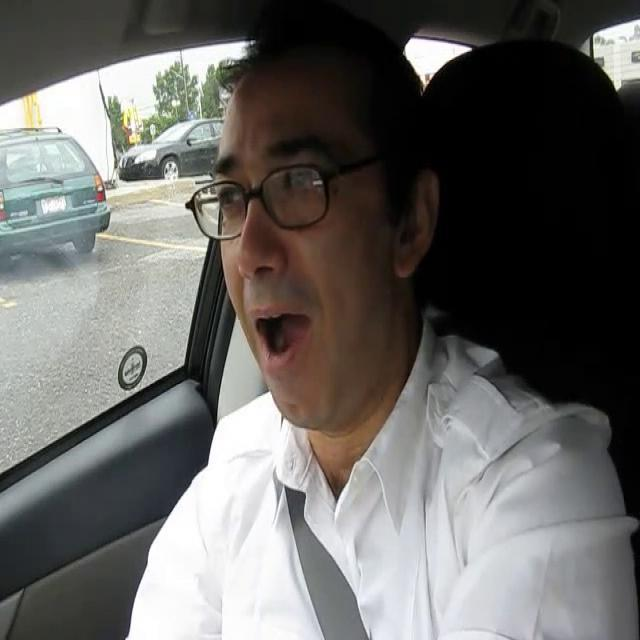open: (260, 127, 346, 215), (212, 147, 248, 218)
